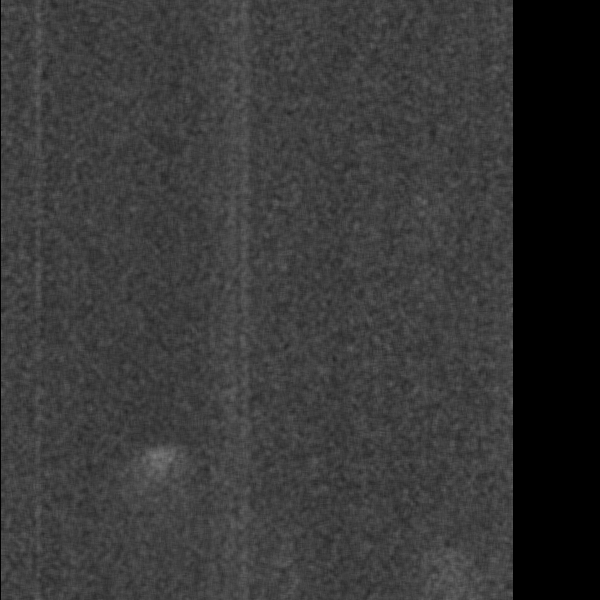spark: (194, 427, 222, 471)
